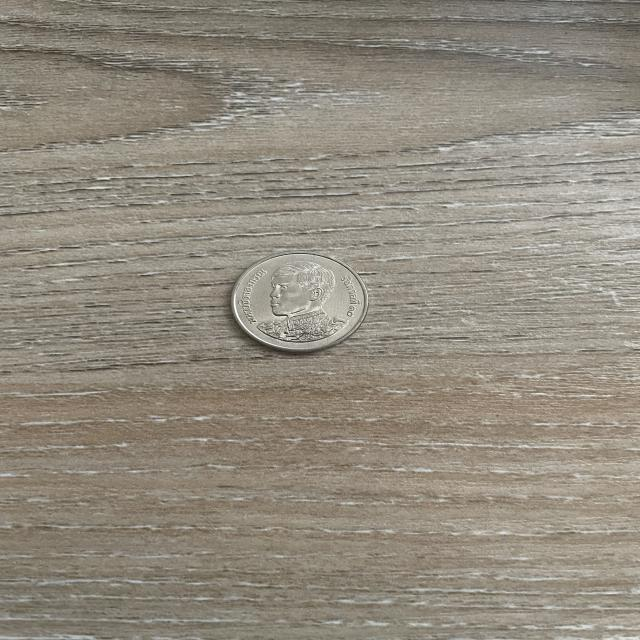1 Bath: (222, 244, 376, 361)
